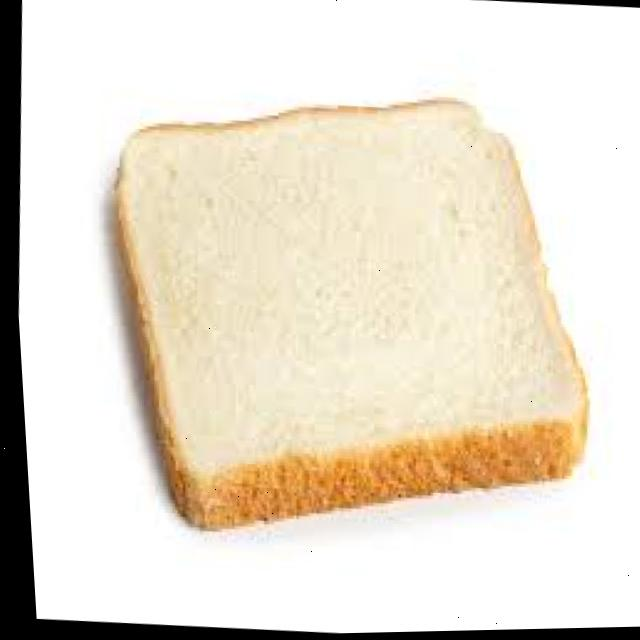Bread: (114, 101, 580, 528)
